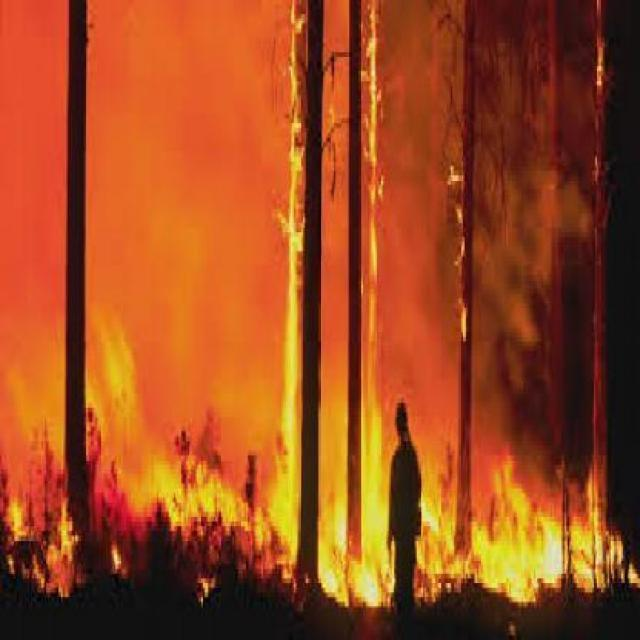Fire: (167, 36, 483, 615), (413, 446, 640, 634)
